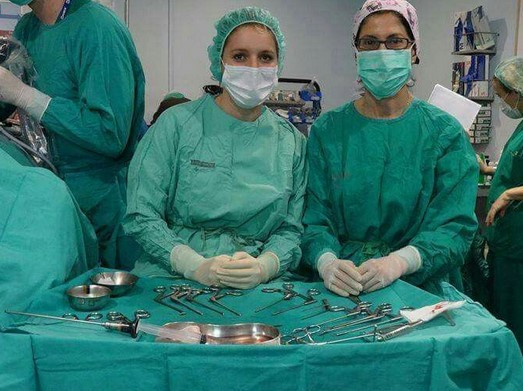face_with_mask: (346, 4, 425, 103), (214, 14, 287, 112), (491, 51, 523, 120)
